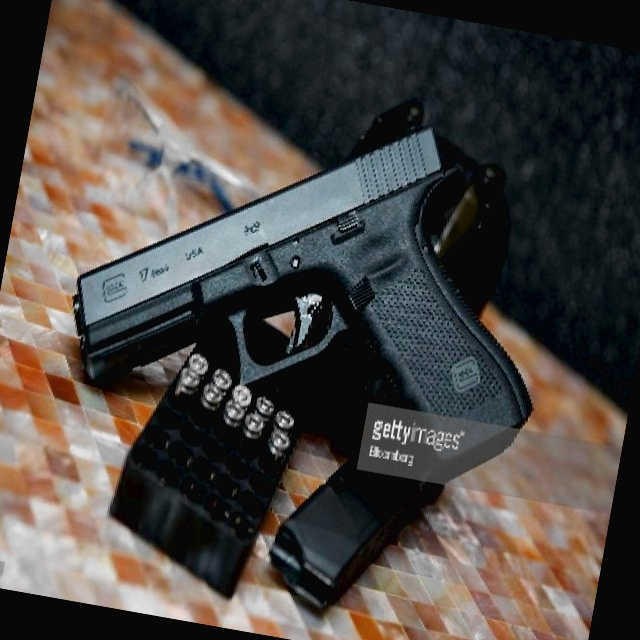gun: (50, 51, 584, 494)
